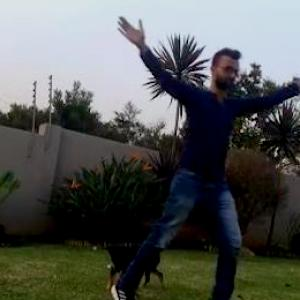takeoff: (100, 42, 293, 282)
